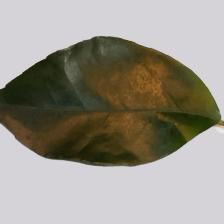healthy: (14, 52, 190, 153)
